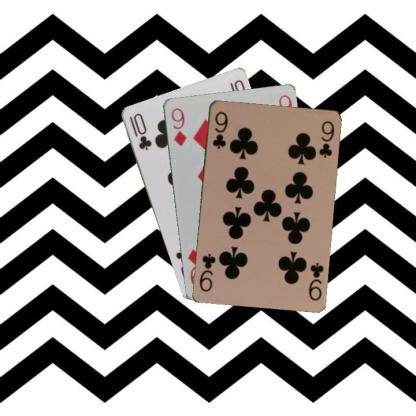10c: (127, 110, 153, 152)
9c: (210, 109, 229, 150), (306, 260, 324, 302)
9d: (168, 105, 188, 147)
